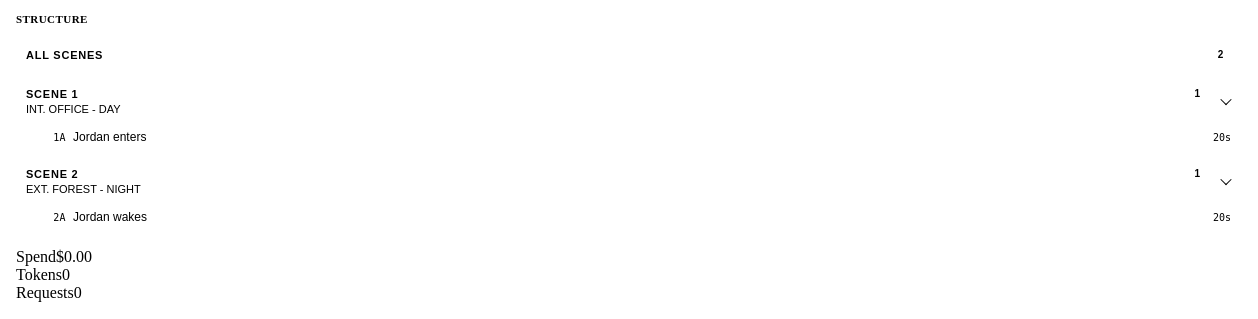
Test: DirectorStructureRail › collapses and expands each scene independently
Click the button named "Collapse Scene 1" at (1226, 101), box [1211,78,1241,124]
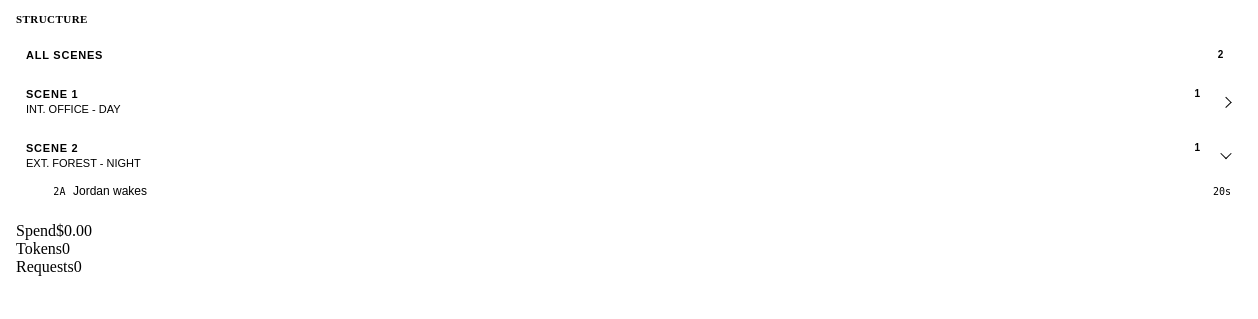
Expected: the button "2A Jordan wakes 20s" is shown, [16,178,1241,204]
Expected: the button "Jordan enters" is gone
Expected: the button named "Expand Scene 1" is collapsed, [1211,78,1241,124]
Click the button titled "INT. OFFICE - DAY" at (49, 94), box [16,78,1211,124]
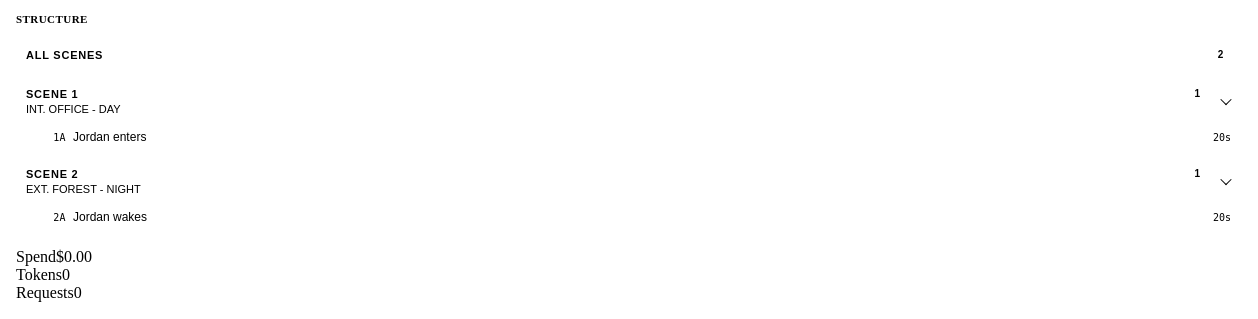
Expected: the button "1A Jordan enters 20s" is shown, [16,124,1241,150]
Expected: the button named "Collapse Scene 1" is expanded, [1211,78,1241,124]
